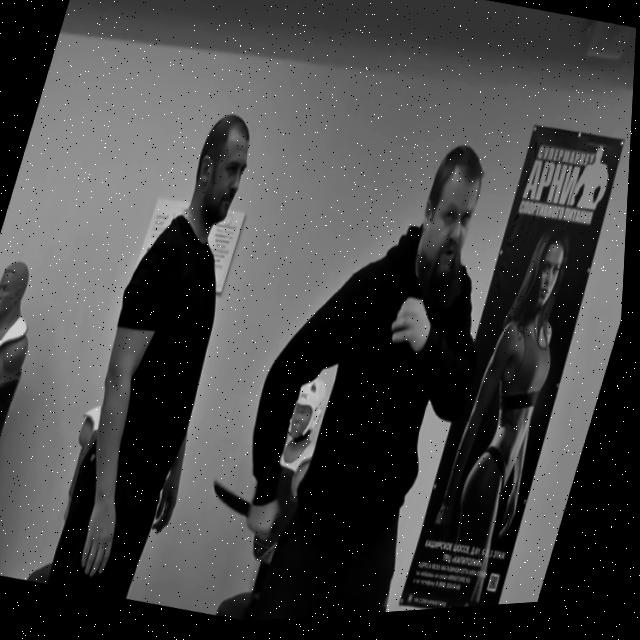knife: (210, 482, 260, 524)
